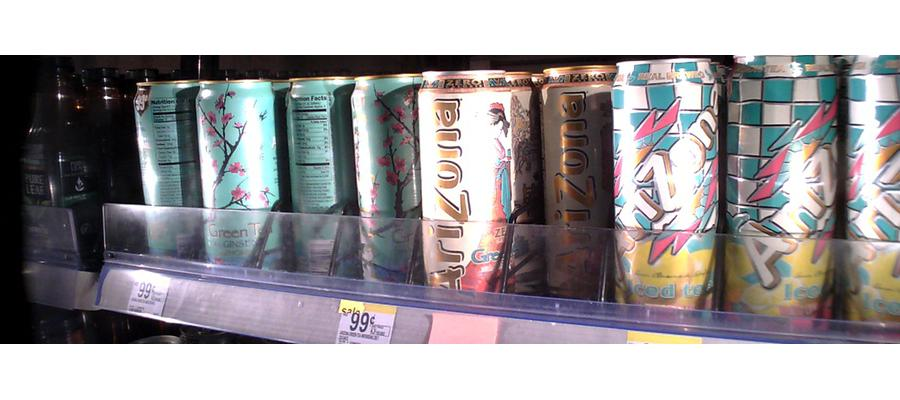bottle: (614, 50, 724, 327), (724, 63, 840, 323), (417, 78, 529, 305), (543, 50, 615, 304), (195, 81, 276, 273), (351, 74, 420, 290), (282, 73, 351, 283), (846, 59, 898, 324), (132, 78, 196, 264)
